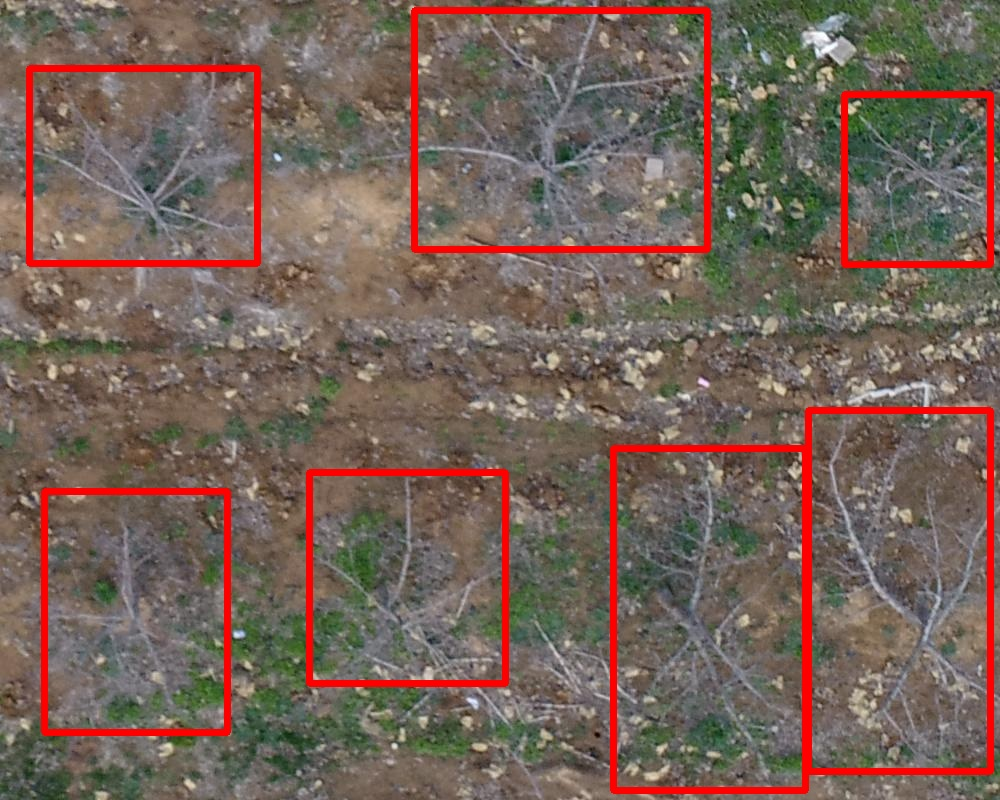apple: (414, 10, 707, 249), (808, 410, 990, 771), (613, 448, 805, 790), (29, 68, 257, 263), (44, 491, 227, 732), (309, 472, 505, 683), (844, 94, 990, 264)
